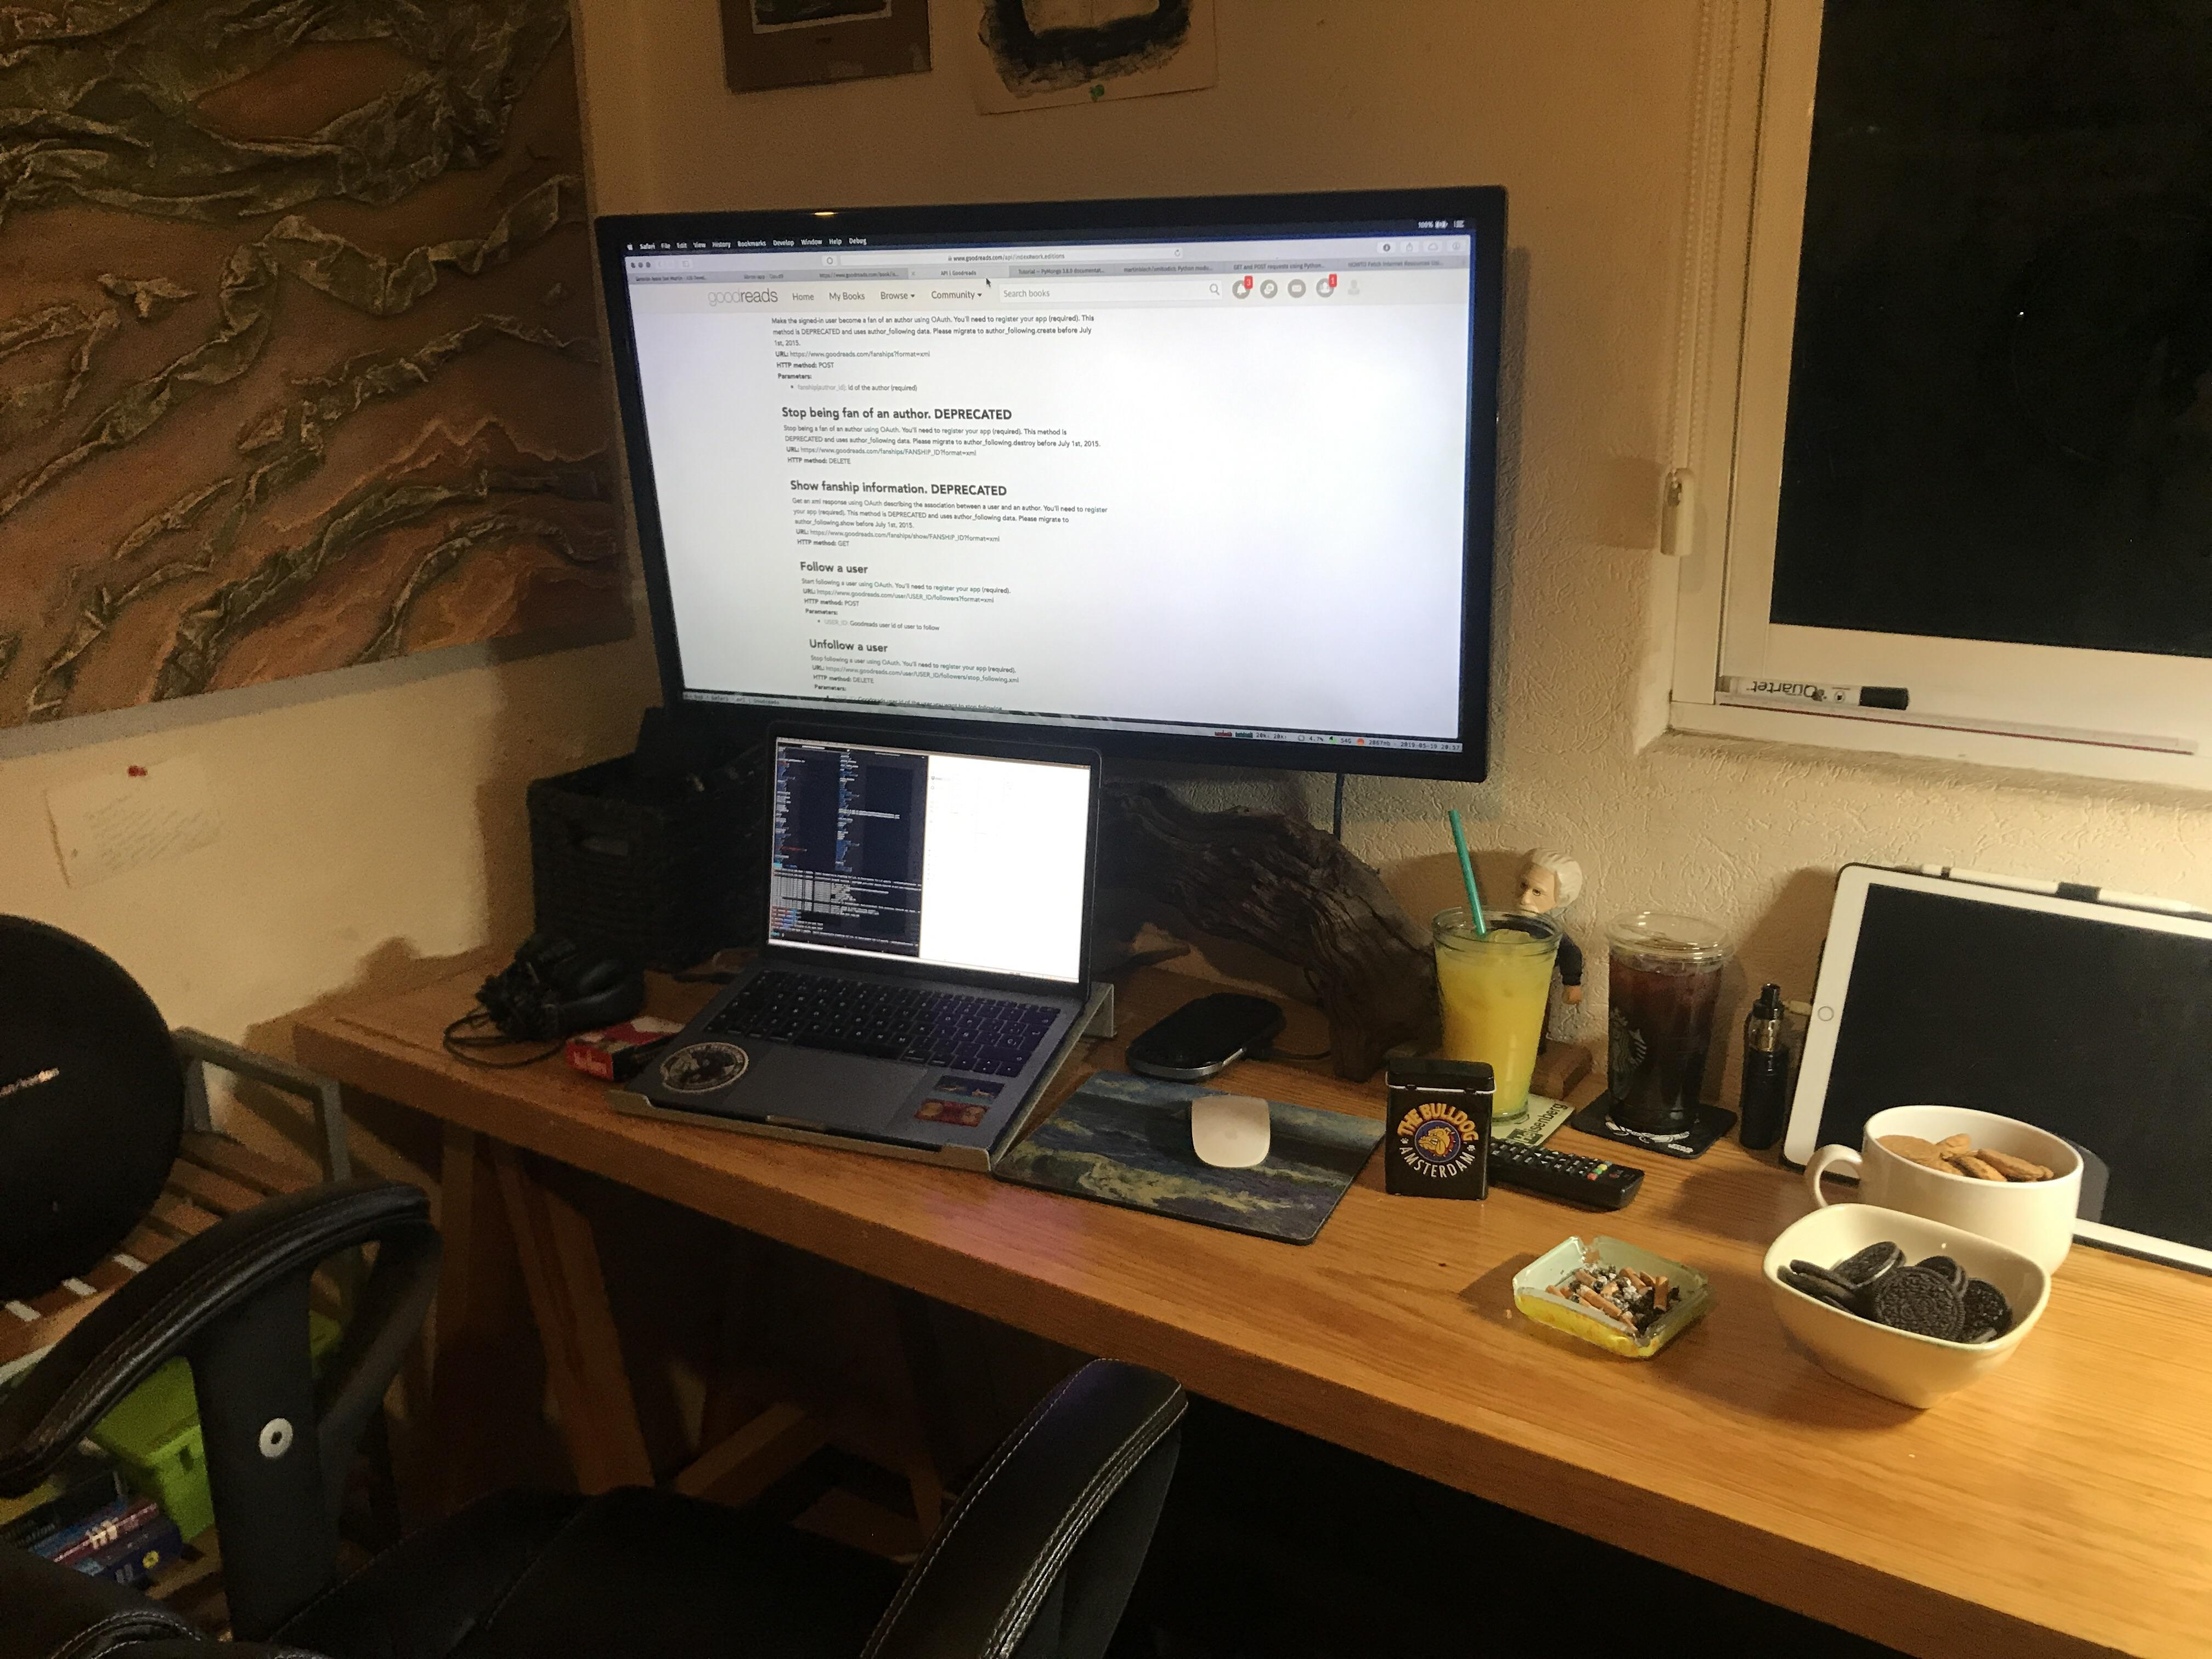Chair (Generic): (0, 1182, 1197, 1659)
Cup: (1428, 809, 1561, 1124), (1606, 908, 1738, 1136)
Decoration (Plant): (0, 0, 634, 735)
Desk (Generic): (296, 901, 2212, 1659)
Drink Coaster: (1568, 1087, 1738, 1161), (1491, 1091, 1576, 1147)
Gaming Console: (1123, 993, 1285, 1084)
Headphones: (484, 932, 644, 1042)
Laptop (Windows): (599, 723, 1106, 1180)
Laptop Stand: (604, 979, 1116, 1176)
Monitor (Landscape): (592, 185, 1508, 781)
Monitor (Laptop): (766, 732, 1089, 997)
Mouse (Generic): (1188, 1094, 1273, 1171)
Mousepad (Generic): (993, 1070, 1388, 1246)
Tablet (iPad): (1780, 864, 2212, 1279)
